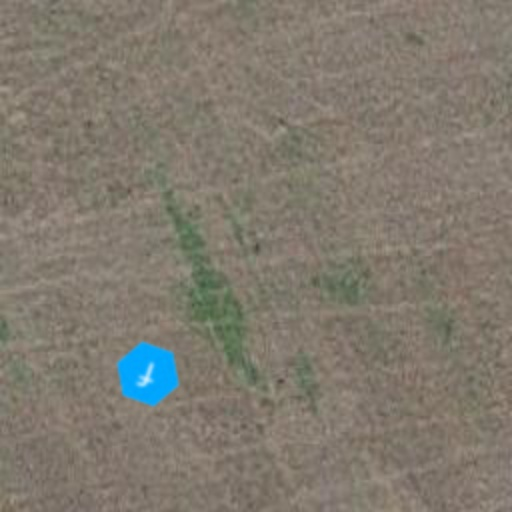hexagon: (104, 330, 192, 418)
